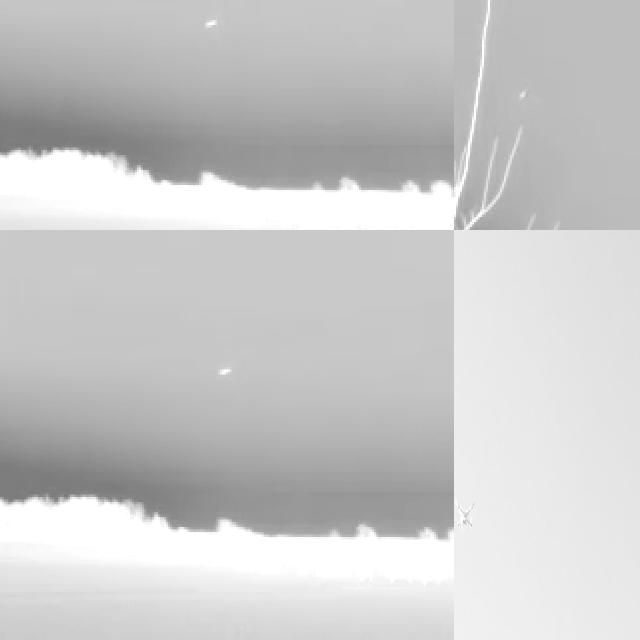0: (512, 83, 536, 111)
1: (194, 12, 228, 46), (209, 360, 241, 394)
drone: (454, 492, 477, 533)
